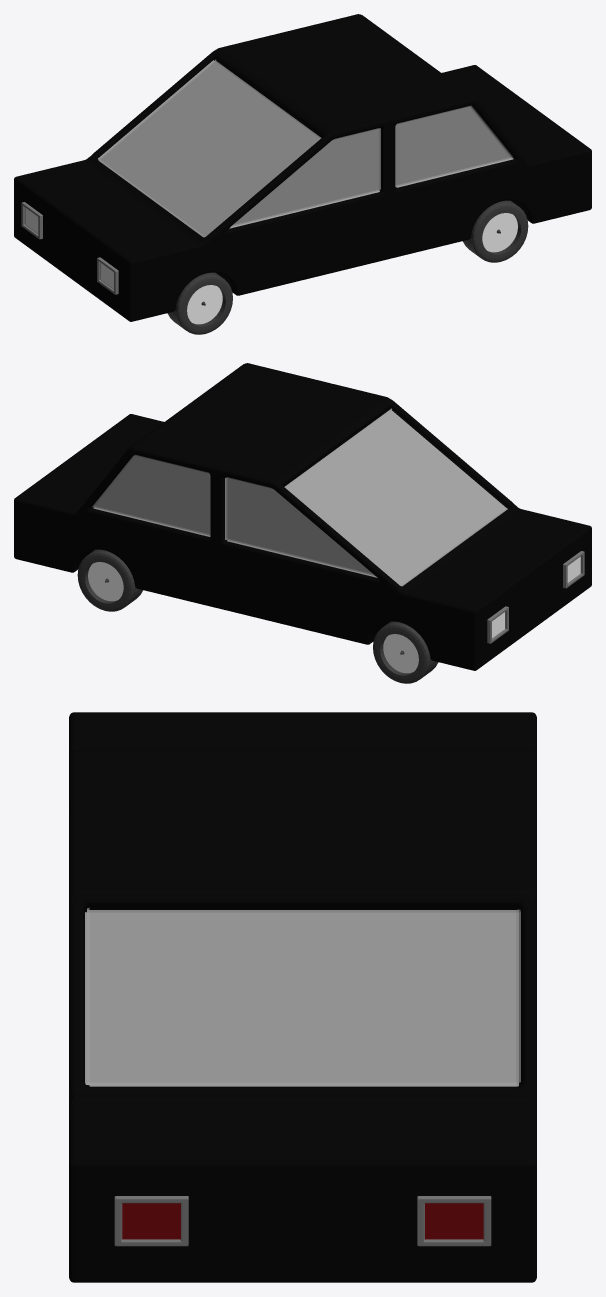
The model's file is araba2.fbx.
The picture shows the model from 3 angles, top to bottom: view 1: azimuth 30°, elevation 25°; view 2: azimuth 150°, elevation 25°; view 3: azimuth 270°, elevation 25°; orthographic projection. The views are drawn at different scales.
Visible parts, largest first — view 1: Cylinder.001; view 2: Cylinder.001; view 3: Cylinder.001.
Boxes of the visible parts, left/top/right/bottom form: Cylinder.001: left=14, top=14, right=591, bottom=334; Cylinder.001: left=14, top=363, right=591, bottom=683; Cylinder.001: left=69, top=712, right=536, bottom=1282.
Bounding box in the file's own units: 347 × 121 × 150.
